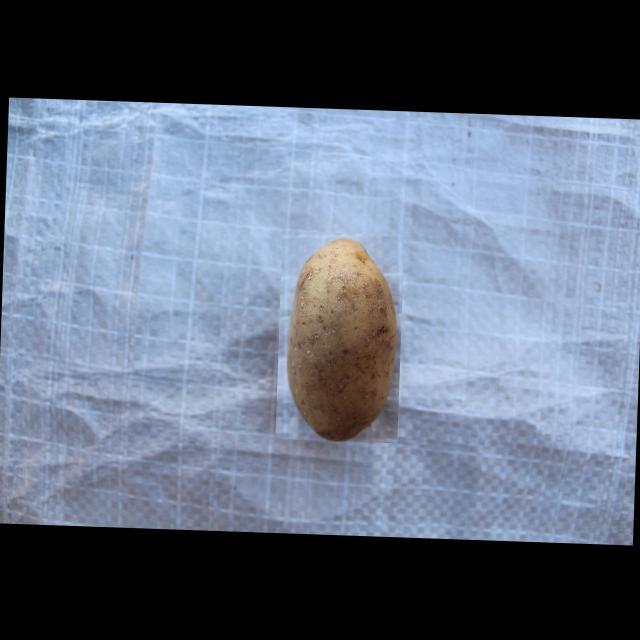Diseased-fungal potato: (274, 229, 403, 442)
